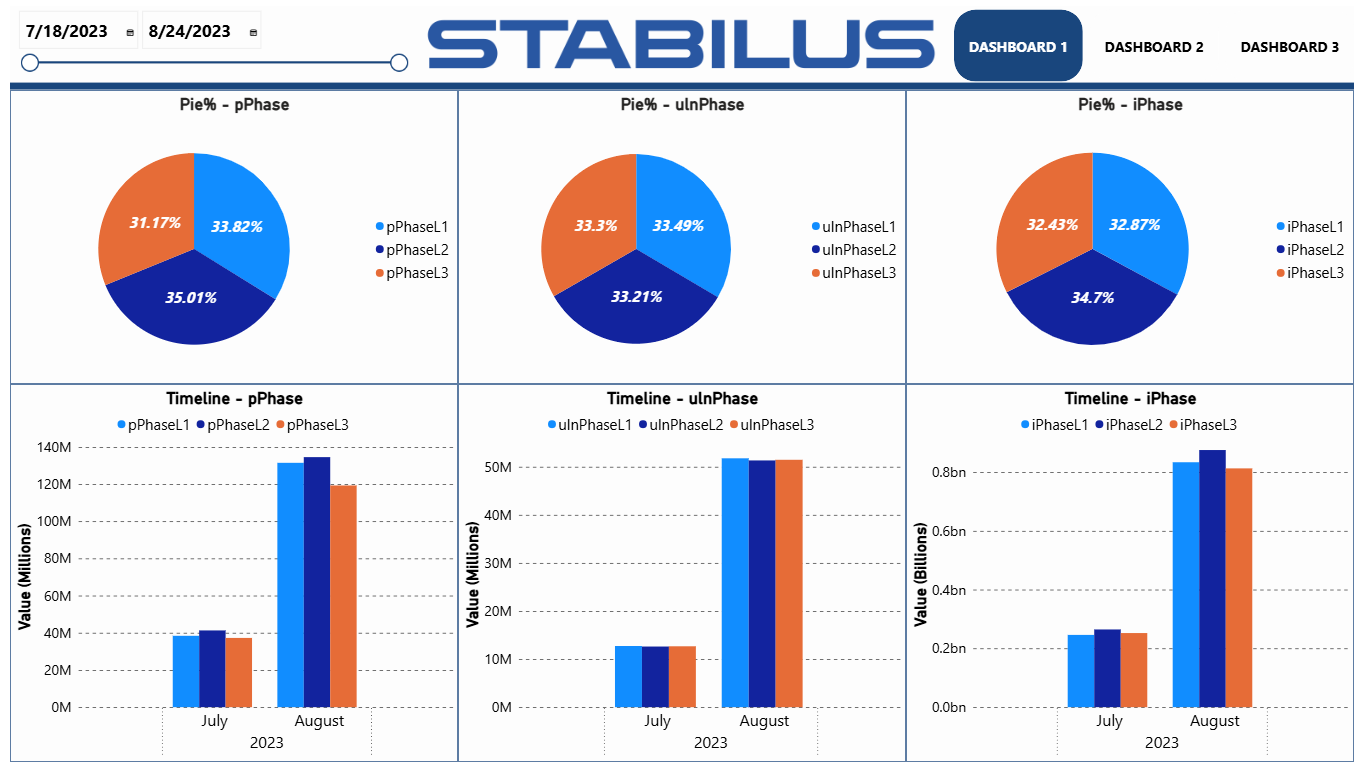

The page's visual inventory and layout, read from the dashboard file:
{"tool":"powerbi","page":{"name":"DASHBOARD 1","canvas":[1920,1080],"ordinal":0},"visuals":[{"type":"shape","box":[0,0,1920,1080],"z":0},{"type":"image","box":[590,0,738,108],"z":1000},{"type":"pageNavigator","box":[1348,0,572,108],"z":2000},{"type":"slicer","fields":{"Values":["Power monitoring - counter data.date_time"]},"box":[0,0,572,108],"z":3000},{"type":"shape","box":[0,108.3,1920,11.7],"z":4000},{"type":"pieChart","title":"Pie% - iPhase","fields":{"Y":["Sum(Power monitoring - counter data.iPhaseL1)","Sum(Power monitoring - counter data.iPhaseL2)","Sum(Power monitoring - counter data.iPhaseL3)"]},"box":[1280,120,640,420],"z":5000},{"type":"pieChart","title":"Pie% - ulnPhase","fields":{"Y":["Sum(Power monitoring - counter data.ulnPhaseL1)","Sum(Power monitoring - counter data.ulnPhaseL2)","Sum(Power monitoring - counter data.ulnPhaseL3)"]},"box":[640,120,640,420],"z":6000},{"type":"pieChart","title":"Pie% - pPhase","fields":{"Y":["Sum(Power monitoring - counter data.pPhaseL1)","Sum(Power monitoring - counter data.pPhaseL2)","Sum(Power monitoring - counter data.pPhaseL3)"]},"box":[0,120,640,420],"z":7000},{"type":"lineClusteredColumnComboChart","title":"Timeline - pPhase","fields":{"Category":["Power monitoring - counter data.date_time.Variation.Date Hierarchy.Year","Power monitoring - counter data.date_time.Variation.Date Hierarchy.Month","Power monitoring - counter data.date_time.Variation.Date Hierarchy.Day"],"Y":["Sum(Power monitoring - counter data.pPhaseL1)","Sum(Power monitoring - counter data.pPhaseL2)","Sum(Power monitoring - counter data.pPhaseL3)"]},"box":[0,540,640,540],"z":8000},{"type":"lineClusteredColumnComboChart","title":"Timeline - iPhase","fields":{"Y":["Sum(Power monitoring - counter data.iPhaseL1)","Sum(Power monitoring - counter data.iPhaseL2)","Sum(Power monitoring - counter data.iPhaseL3)"],"Category":["Power monitoring - counter data.date_time.Variation.Date Hierarchy.Year","Power monitoring - counter data.date_time.Variation.Date Hierarchy.Month","Power monitoring - counter data.date_time.Variation.Date Hierarchy.Day"]},"box":[1280,540,640,540],"z":9000},{"type":"lineClusteredColumnComboChart","title":"Timeline - ulnPhase","fields":{"Category":["Power monitoring - counter data.date_time.Variation.Date Hierarchy.Year","Power monitoring - counter data.date_time.Variation.Date Hierarchy.Month","Power monitoring - counter data.date_time.Variation.Date Hierarchy.Day"],"Y":["Sum(Power monitoring - counter data.ulnPhaseL1)","Sum(Power monitoring - counter data.ulnPhaseL2)","Sum(Power monitoring - counter data.ulnPhaseL3)"]},"box":[640,540,640,540],"z":10000}]}

Visuals, with their boxes in screenshot pixels (x1, y1, x2, y2), scaled from the page's 1920x1080 canvas onto the 1360x769 screenshot:
shape: locate(0, 0, 1359, 768)
image: locate(418, 0, 941, 77)
pageNavigator: locate(955, 0, 1359, 77)
slicer - Power monitoring - counter data.date_time: locate(0, 0, 405, 77)
shape: locate(0, 77, 1359, 85)
"Pie% - iPhase" pieChart: locate(907, 85, 1359, 384)
"Pie% - ulnPhase" pieChart: locate(453, 85, 907, 384)
"Pie% - pPhase" pieChart: locate(0, 85, 453, 384)
"Timeline - pPhase" lineClusteredColumnComboChart: locate(0, 384, 453, 768)
"Timeline - iPhase" lineClusteredColumnComboChart: locate(907, 384, 1359, 768)
"Timeline - ulnPhase" lineClusteredColumnComboChart: locate(453, 384, 907, 768)
